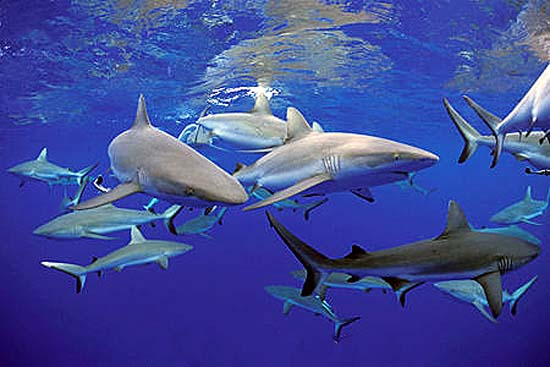Carcharhinus_amblyrhynchos: (10, 96, 547, 330)
